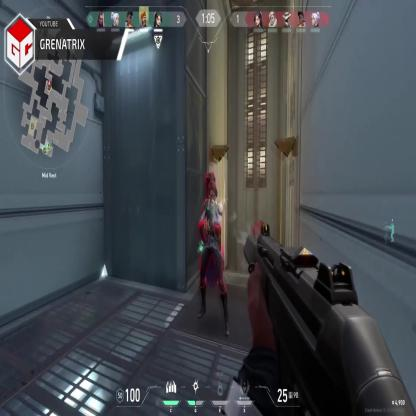enemy: (196, 170, 230, 338)
enemy_head: (208, 181, 217, 204)
